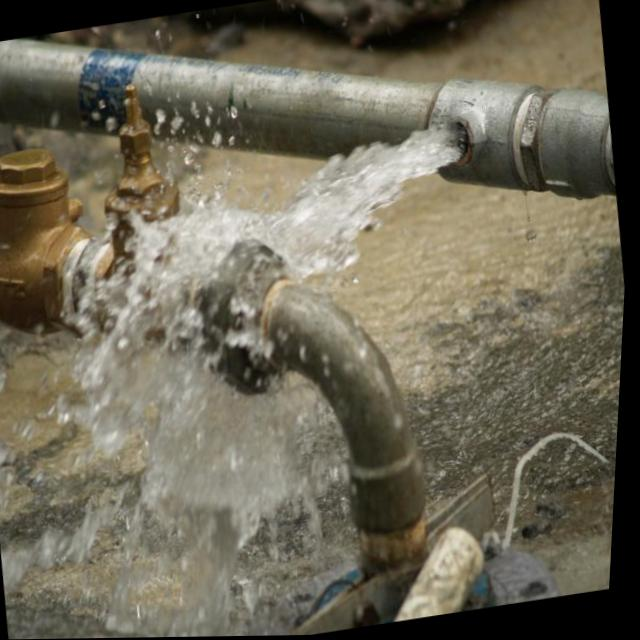leak: (71, 130, 458, 503)
